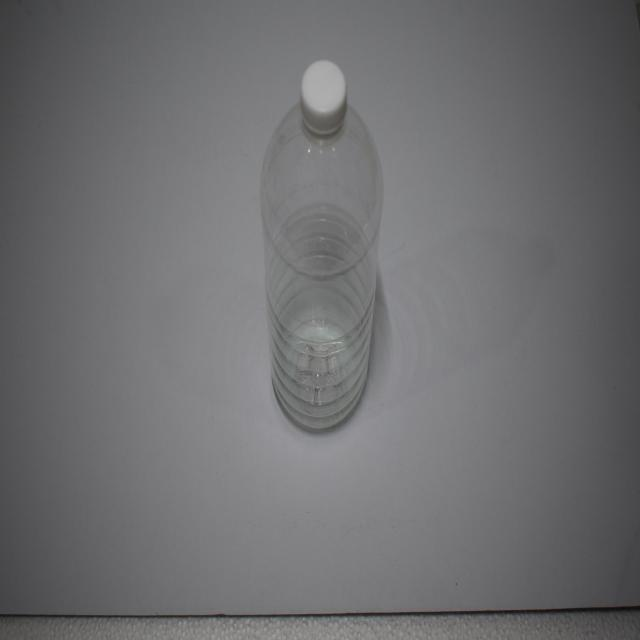bottle: (244, 47, 394, 450)
